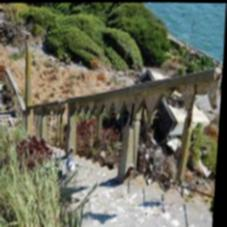Animal: (42, 142, 167, 225)
